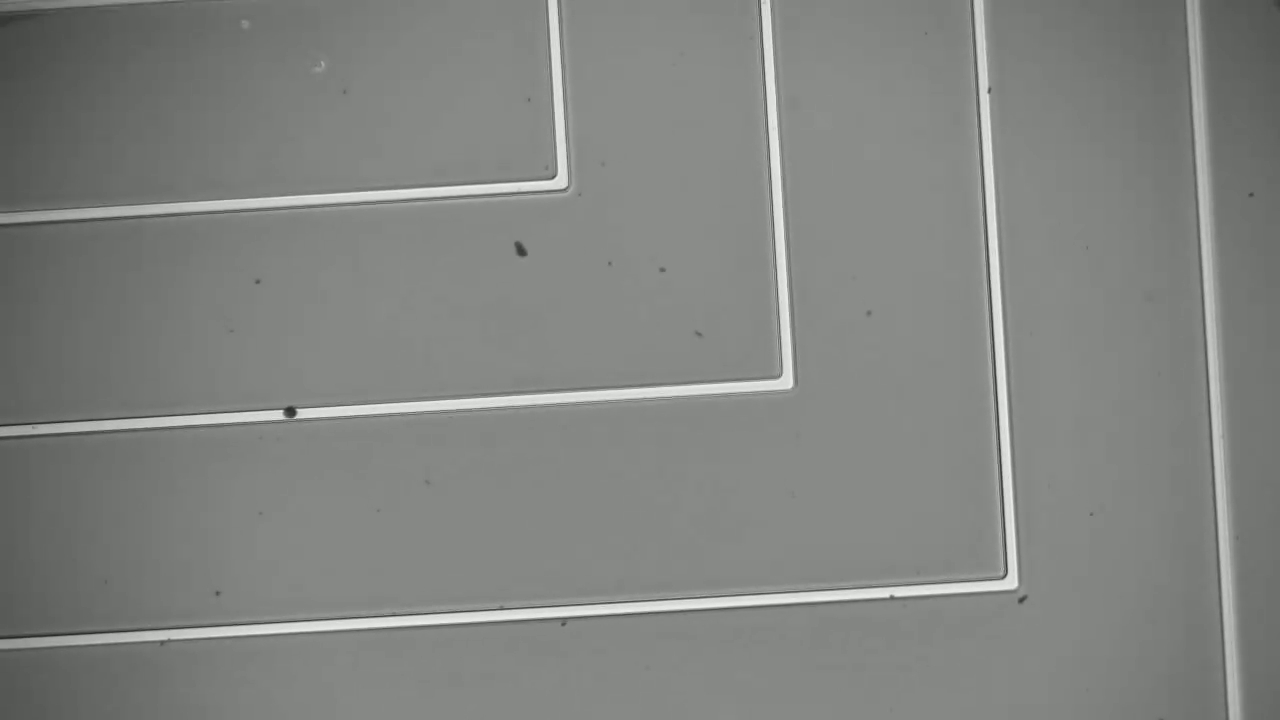stains_enbedded: (278, 396, 305, 428)
